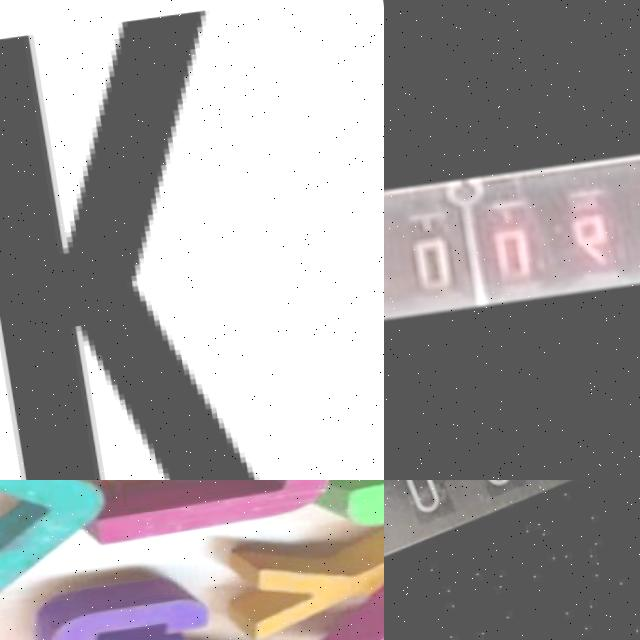0: (399, 236, 444, 298), (480, 230, 525, 292), (386, 480, 443, 526)
3: (456, 480, 514, 500)
6: (562, 222, 605, 279)
D: (0, 480, 107, 627)
K: (0, 5, 283, 480)
O: (295, 565, 384, 640)
U: (63, 480, 361, 552)
